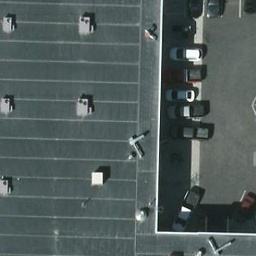car: (172, 188, 199, 234), (228, 192, 254, 227), (166, 63, 204, 81), (168, 102, 206, 120), (171, 126, 209, 144), (167, 88, 197, 102), (170, 46, 200, 60)
